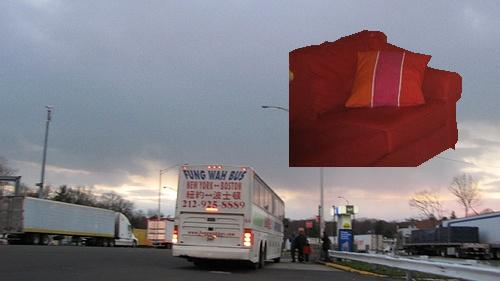tampered: (290, 31, 462, 167)
